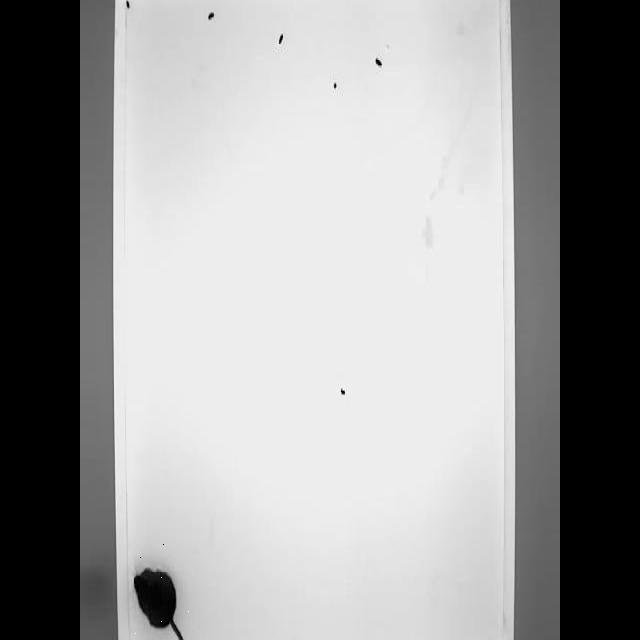rat: (128, 526, 196, 640)
